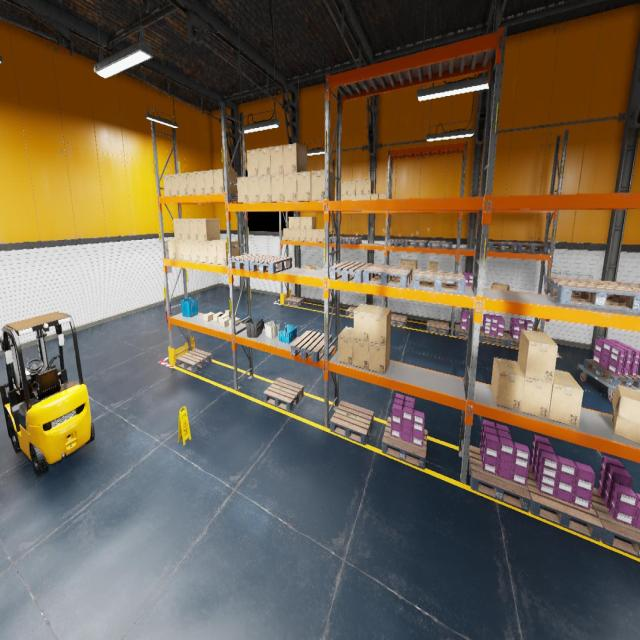box: (517, 329, 558, 383), (548, 369, 583, 427), (518, 361, 552, 419), (491, 357, 524, 411), (612, 384, 640, 444), (369, 306, 391, 345), (353, 304, 375, 342), (369, 336, 390, 374), (311, 170, 335, 201), (283, 143, 307, 173), (213, 169, 237, 194), (216, 240, 239, 265), (338, 327, 353, 365), (197, 218, 220, 240), (353, 338, 369, 369), (207, 239, 226, 264), (297, 171, 311, 201), (270, 145, 284, 174), (284, 172, 297, 202), (271, 174, 284, 202), (258, 147, 271, 175), (246, 148, 258, 176), (259, 175, 271, 202), (248, 176, 259, 202), (237, 176, 248, 202), (204, 170, 214, 194), (194, 171, 204, 194), (186, 172, 196, 195), (170, 173, 180, 196), (198, 240, 208, 262), (190, 240, 200, 261), (182, 240, 192, 261), (178, 173, 187, 195), (163, 174, 172, 196), (189, 219, 198, 240), (181, 219, 190, 239), (173, 219, 182, 239), (168, 238, 176, 259), (175, 240, 183, 260), (491, 282, 510, 290), (408, 260, 417, 276), (218, 310, 229, 322), (312, 229, 322, 242), (363, 180, 373, 193), (306, 217, 316, 229), (229, 317, 240, 327), (220, 317, 231, 327), (348, 181, 356, 194), (356, 180, 363, 194), (341, 181, 348, 194), (204, 312, 214, 321), (213, 312, 223, 321), (428, 262, 438, 270), (318, 229, 324, 242), (306, 230, 312, 242), (300, 229, 306, 241), (294, 229, 300, 241), (283, 228, 289, 240), (300, 217, 306, 229), (294, 217, 300, 229), (288, 217, 294, 228), (304, 264, 316, 269), (399, 260, 409, 266), (289, 229, 294, 240), (355, 194, 363, 200), (379, 193, 386, 199), (348, 194, 355, 200), (371, 194, 378, 199), (363, 194, 370, 199), (341, 195, 348, 200), (335, 195, 341, 200), (412, 276, 413, 280)
forklift: (0, 312, 95, 475)
pallets: (527, 465, 603, 542), (468, 445, 531, 512), (544, 276, 640, 312), (591, 488, 640, 558), (382, 418, 427, 470), (330, 401, 374, 445), (583, 358, 640, 388), (412, 269, 466, 295), (290, 330, 332, 363), (264, 377, 303, 412), (363, 264, 412, 288), (330, 261, 373, 283), (176, 349, 212, 372), (250, 256, 292, 274), (227, 254, 269, 270), (479, 328, 506, 346), (454, 324, 480, 341), (427, 319, 449, 335), (514, 242, 549, 252), (487, 241, 518, 251), (616, 281, 640, 291), (504, 332, 519, 348), (391, 314, 407, 327), (405, 239, 428, 248), (429, 240, 452, 249), (285, 296, 304, 306), (329, 236, 347, 244), (342, 237, 362, 244), (388, 239, 407, 246), (346, 306, 356, 317)
